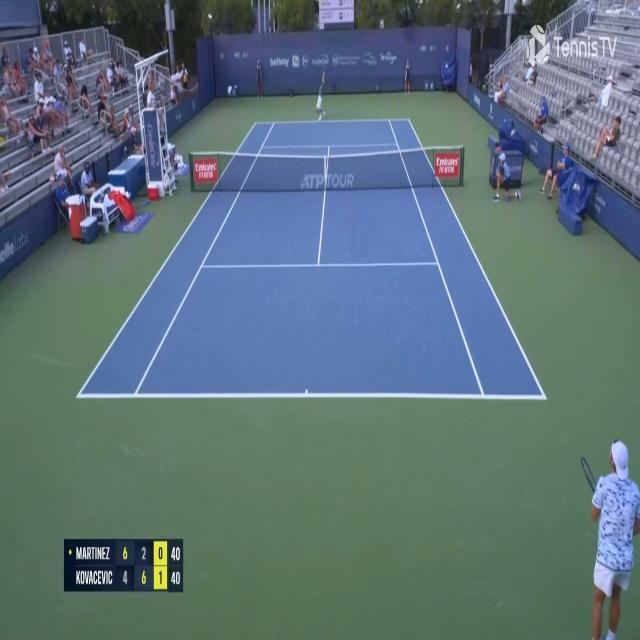tennis-player: (577, 434, 640, 640), (315, 69, 330, 122)
